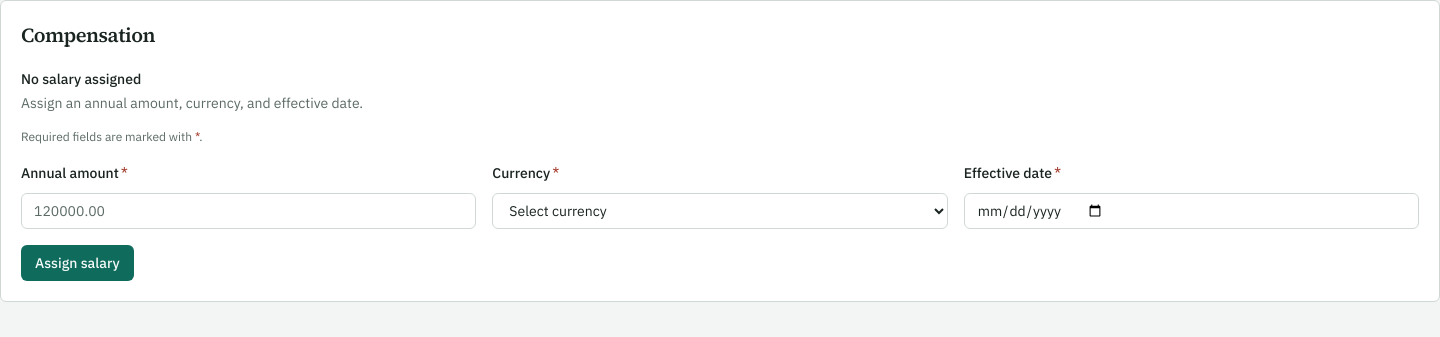
Scenario: SalarySection › shows revision history after successful assignment
Expected: the text "No salary assigned" is shown, [21,70,141,88]
Type "90000.00" into the field labelled "Annual amount" at (249, 211), box [21,193,476,229]
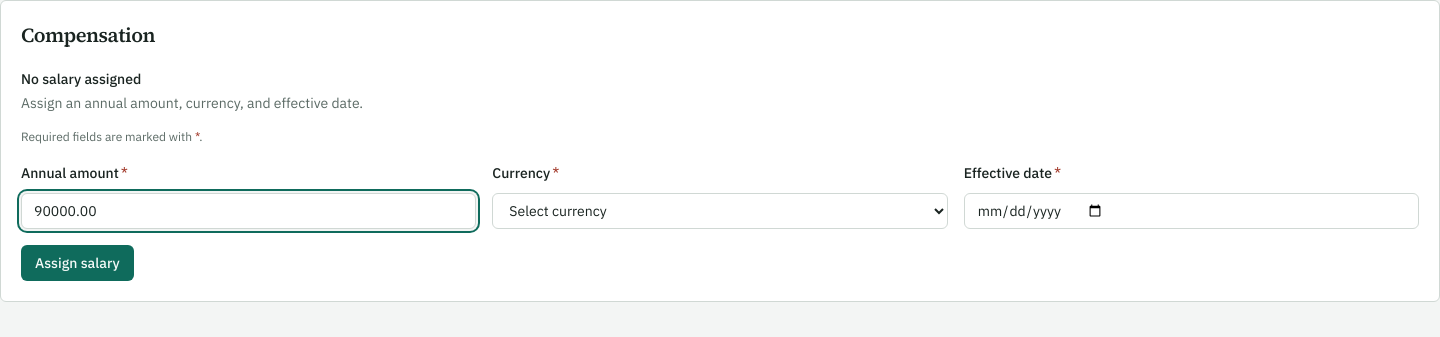
Select "CAD" in the dropdown labelled "Currency" at (720, 211), box [492,193,948,229]
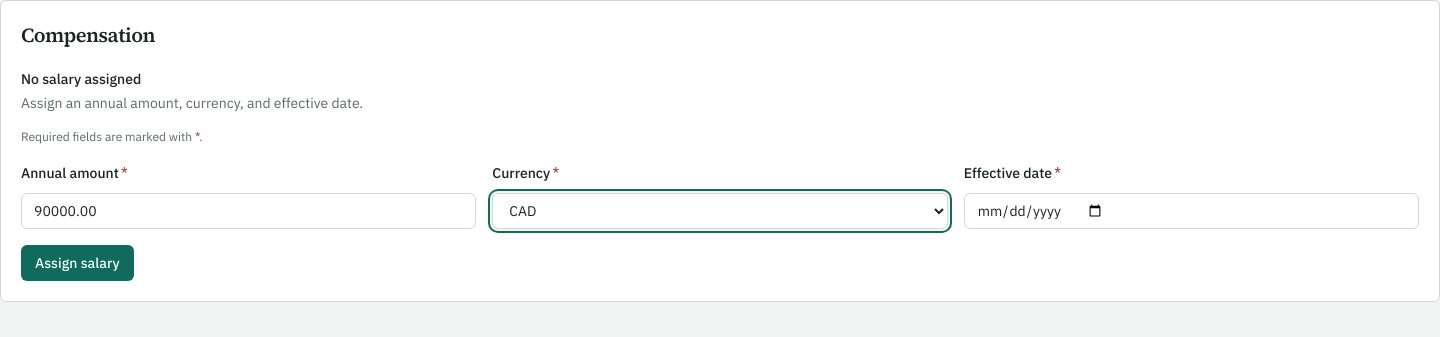
Type "2024-03-01" into the date field labelled "Effective date" at (1191, 211), box [964,193,1419,229]
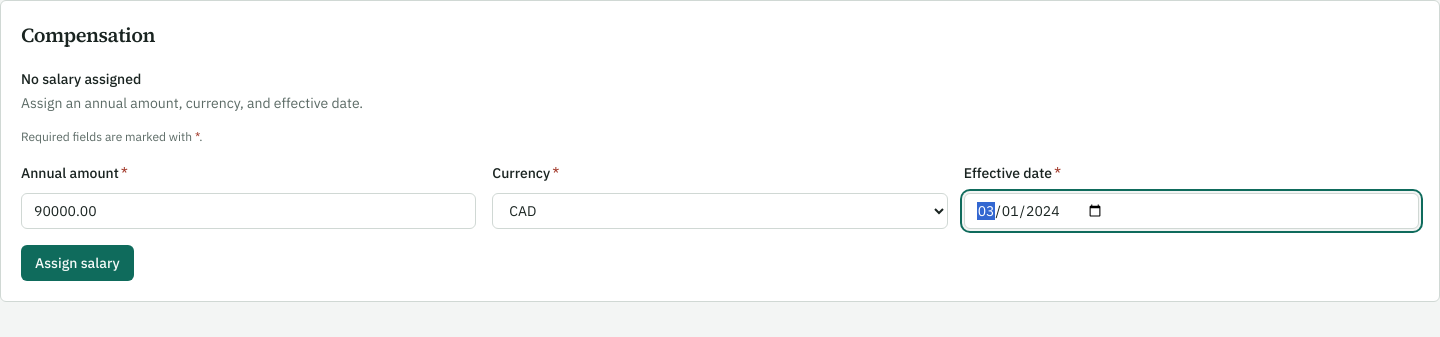
Click the button "Assign salary" at (77, 263), box [21,245,134,281]
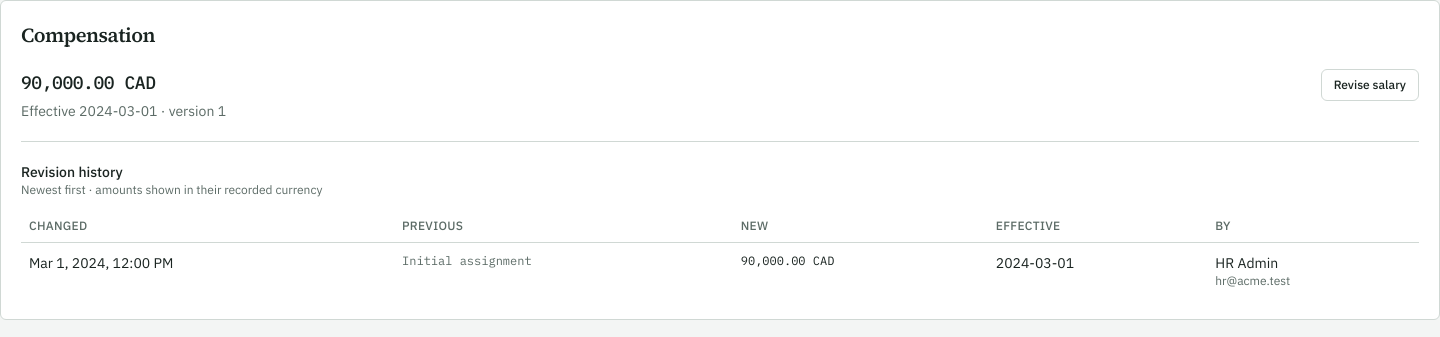
Expected: the heading "Revision history" is shown, [21,163,123,181]
Expected: the text "Initial assignment" is shown, [394,242,733,299]
